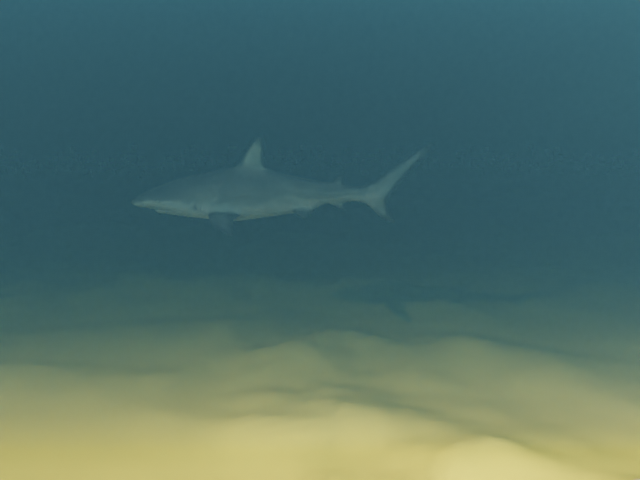Carribean Shark.001: (131, 136, 431, 235)
